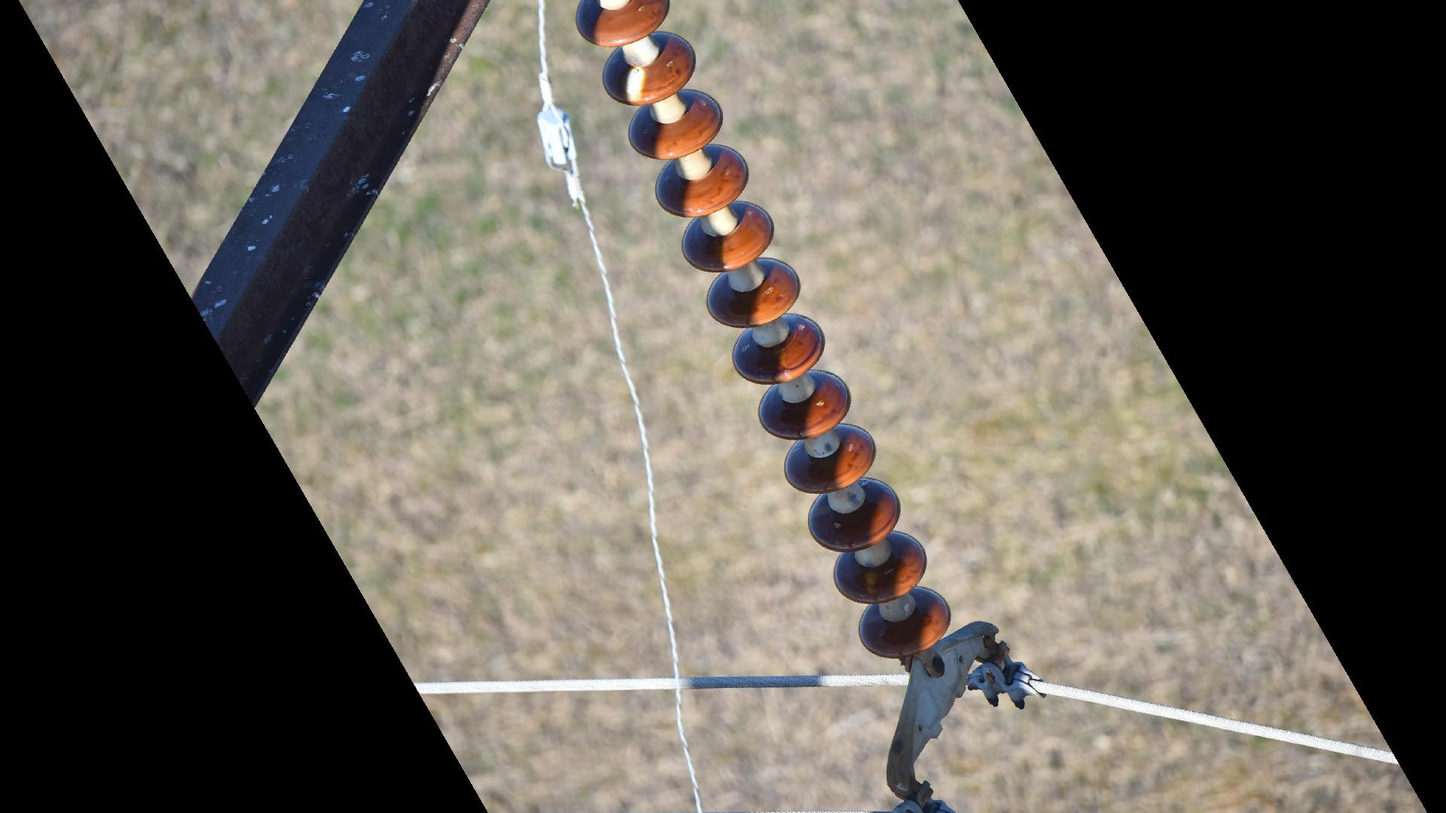insulator: (570, 1, 955, 664)
insulator_flashover: (621, 64, 648, 105)
